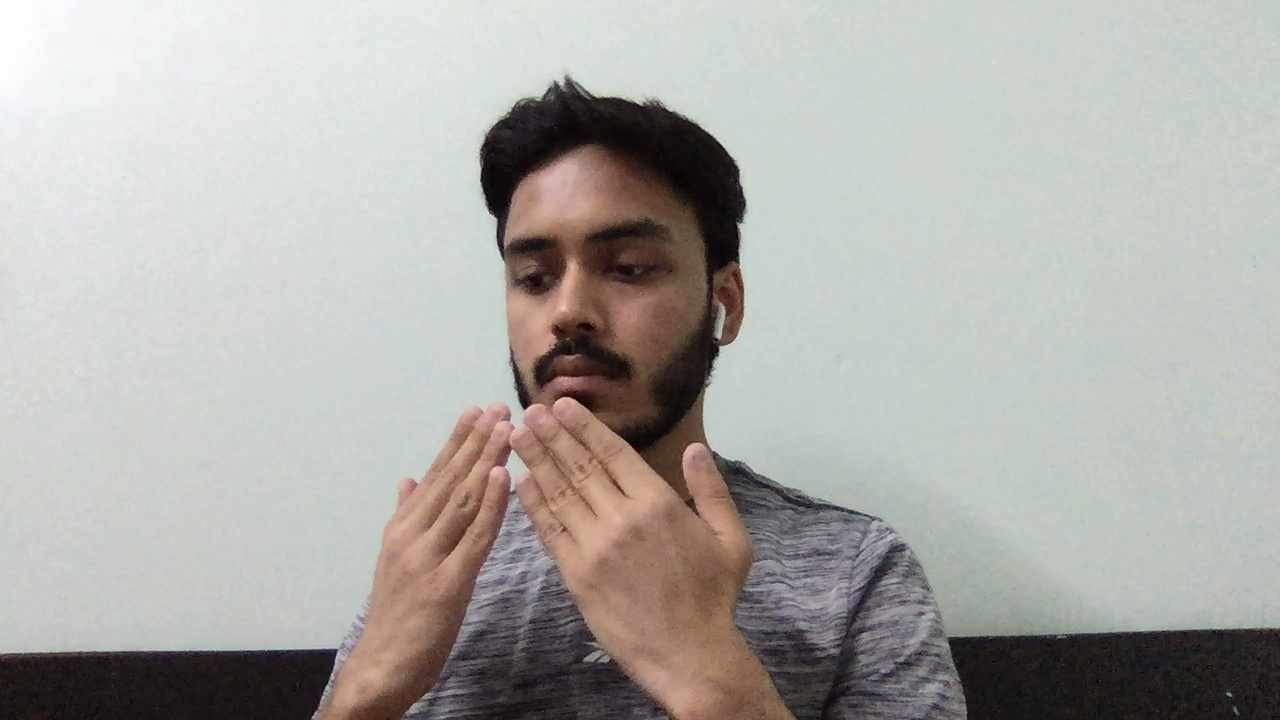Thank You: (322, 388, 779, 682)
